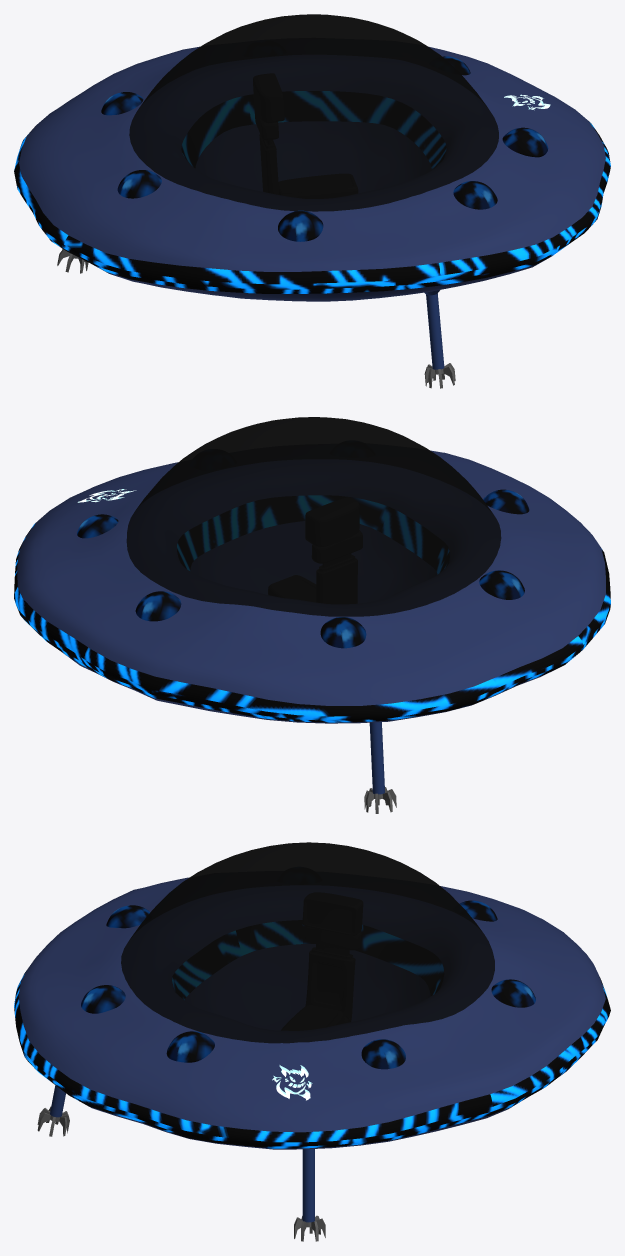
File: apollo_11.glb
The picture shows the model from 3 angles, top to bottom: view 1: azimuth 30°, elevation 25°; view 2: azimuth 150°, elevation 25°; view 3: azimuth 270°, elevation 25°; orthographic projection. The views are drawn at different scales.
Visible parts, largest first — view 1: body, domo, body.001, orbs, cadeira, step, ped.001; view 2: body, domo, body.001, cadeira, orbs, step; view 3: body, domo, body.001, cadeira, orbs, step, ped.001, poke..
Boxes of the visible parts, <box> form: body: <box>19,46,605,301</box>; domo: <box>129,14,498,211</box>; body.001: <box>14,91,610,293</box>; orbs: <box>101,56,548,241</box>; cadeira: <box>253,74,357,198</box>; step: <box>424,290,444,369</box>; ped.001: <box>57,248,455,388</box>; body: <box>17,450,605,723</box>; domo: <box>126,417,501,616</box>; body.001: <box>14,496,610,722</box>; cadeira: <box>268,497,362,603</box>; orbs: <box>77,489,529,648</box>; step: <box>369,722,384,794</box>; body: <box>18,877,605,1149</box>; domo: <box>121,842,494,1043</box>; body.001: <box>14,920,610,1148</box>; cadeira: <box>282,893,362,1030</box>; orbs: <box>81,900,535,1069</box>; step: <box>50,1085,314,1222</box>; ped.001: <box>37,1106,325,1241</box>; poke.: <box>272,1065,312,1100</box>.
Size of the model in its own units: 7.11 by 3.4 by 6.9.
8 materials, 7 textured.
